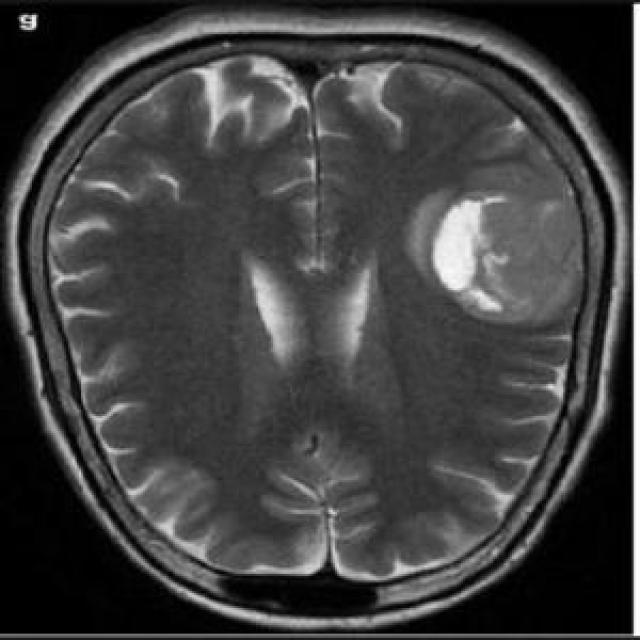Tumor: (434, 172, 581, 327)
